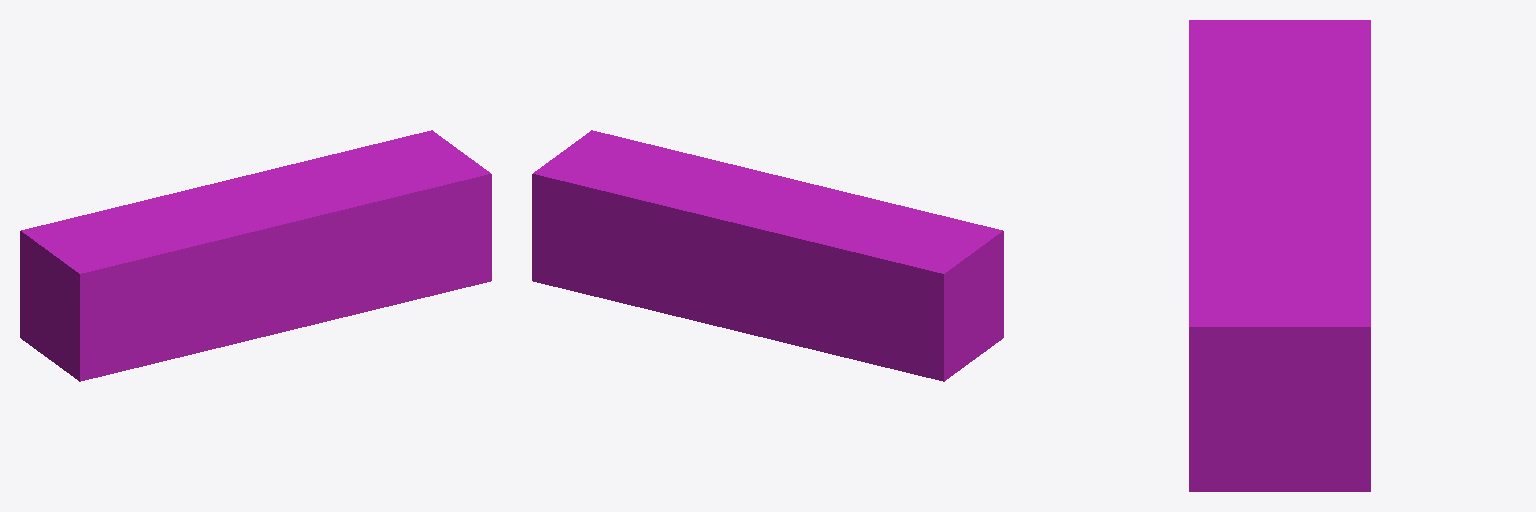
The robot description file, URDF, robot "robot":
<?xml version="1.0" ?>
<robot name="robot">
    <link name="box_link">
        <inertial>
            <origin rpy="0 0 0" xyz="0 0 0" />
            <mass value="10" />
            <inertia ixx="0" ixy="0" ixz="0" iyy="0" iyz="0" izz="0" />
        </inertial>
        <visual>
            <origin rpy="0 0 0" xyz="0 0 0" />
            <geometry>
                <box size="0.2 0.05 0.05"/>
            </geometry>
            <material name="a">
                <color rgba="0.8 0.2 0.8 1" />
            </material>
        </visual>
        <collision>
            <origin rpy="0 0 0" xyz="0 0 0" />
            <geometry>
                <box size="0.2 0.05 0.05"/>
            </geometry>
        </collision>
    </link>
</robot>

--- Facts derived from the render (not from the file) ---
The picture shows the robot from 3 angles, left to right: view 1: azimuth 30°, elevation 25°; view 2: azimuth 150°, elevation 25°; view 3: azimuth 270°, elevation 25°; orthographic projection.
Robot: robot — 1 links, 0 joints (none); root link box_link; default pose: every joint at zero.
Visible links, largest first — view 1: box_link; view 2: box_link; view 3: box_link.
Boxes of the visible links, <box> form: box_link: <box>20,130,491,381</box>; box_link: <box>532,130,1003,381</box>; box_link: <box>1189,20,1370,491</box>.
Bounding box of the posed robot: 0.2 × 0.05 × 0.05 m (x, y, z).
Geometry: primitives only (box / cylinder / sphere), no mesh files.